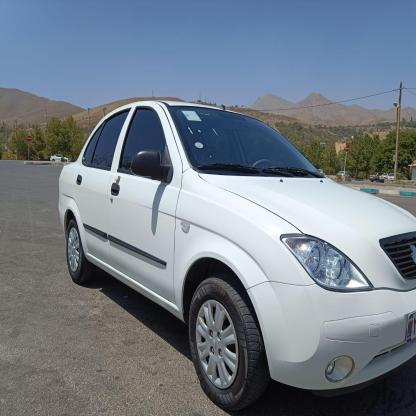Car: (55, 96, 416, 416), (48, 152, 70, 170)
